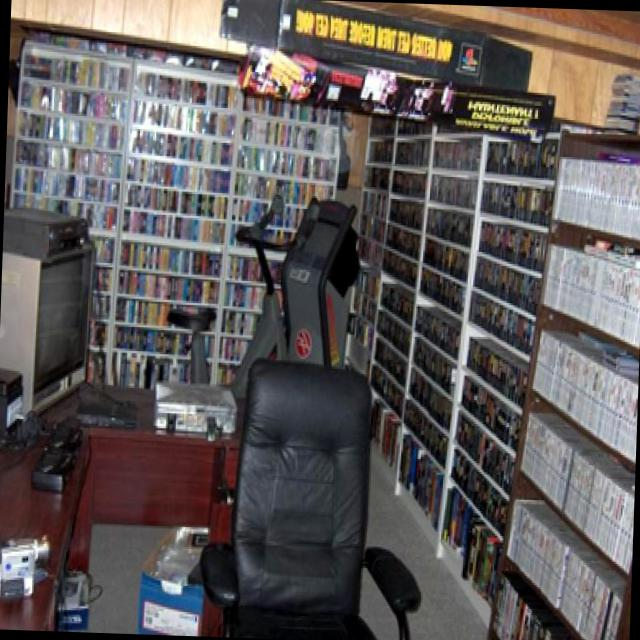armchair occluded: (203, 355, 425, 639)
camera crop: (0, 531, 53, 599)
desk calendar: (0, 371, 245, 625)
exercise bike: (171, 194, 308, 396)
floor -X: (0, 407, 494, 640)
monitor crop: (4, 229, 93, 412)
shelves crop: (343, 78, 640, 640), (0, 15, 373, 412)
treadmill occluded: (284, 194, 359, 362)
videos: (522, 409, 633, 570), (509, 497, 630, 640), (534, 328, 637, 459), (462, 371, 524, 449), (22, 79, 128, 119), (477, 254, 543, 315), (21, 107, 125, 145), (128, 154, 233, 191), (135, 96, 237, 132), (482, 180, 556, 223), (411, 365, 455, 427), (417, 304, 461, 355), (421, 265, 467, 312), (428, 204, 475, 245), (426, 234, 470, 277)
wall clock: (15, 0, 640, 128)
